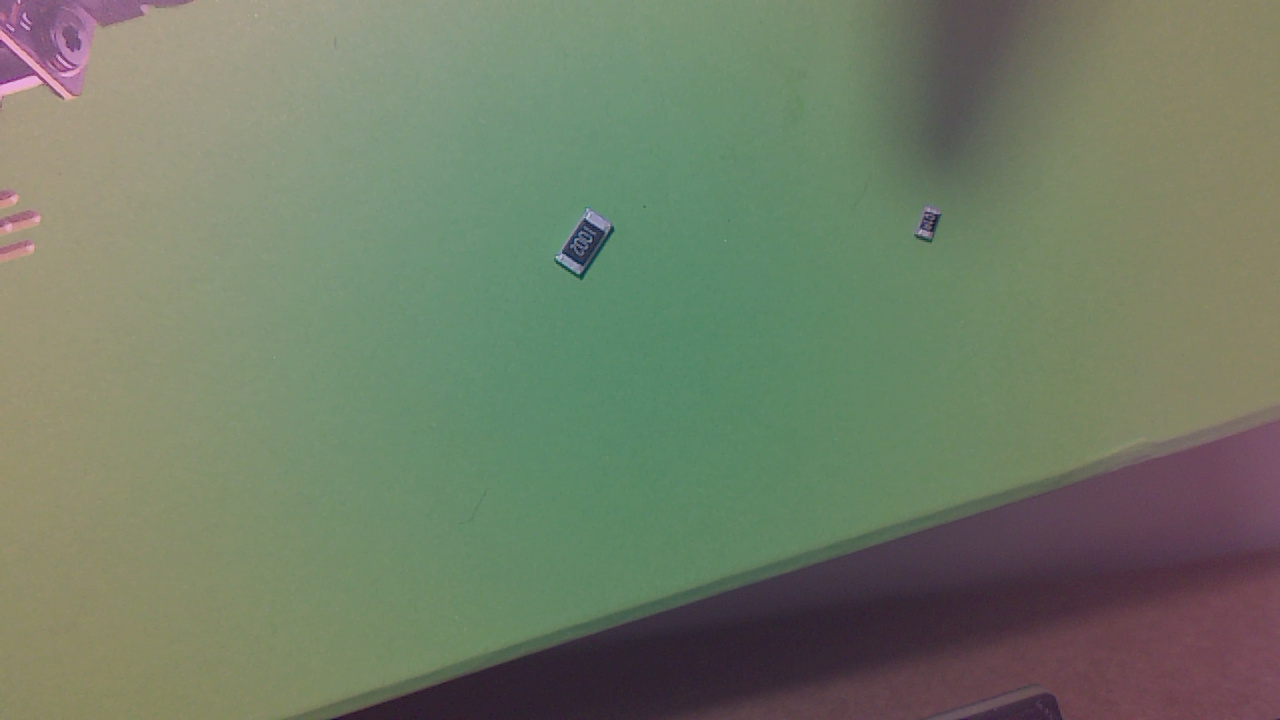Resistor: (558, 213, 621, 282), (921, 211, 947, 249)
